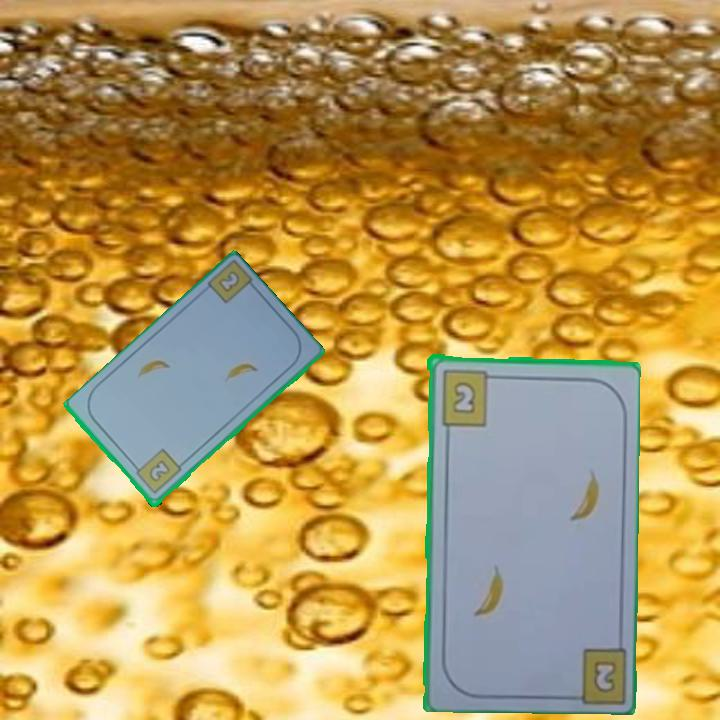2b: (437, 366, 499, 427), (130, 446, 184, 497), (215, 267, 243, 296), (592, 660, 616, 692)
